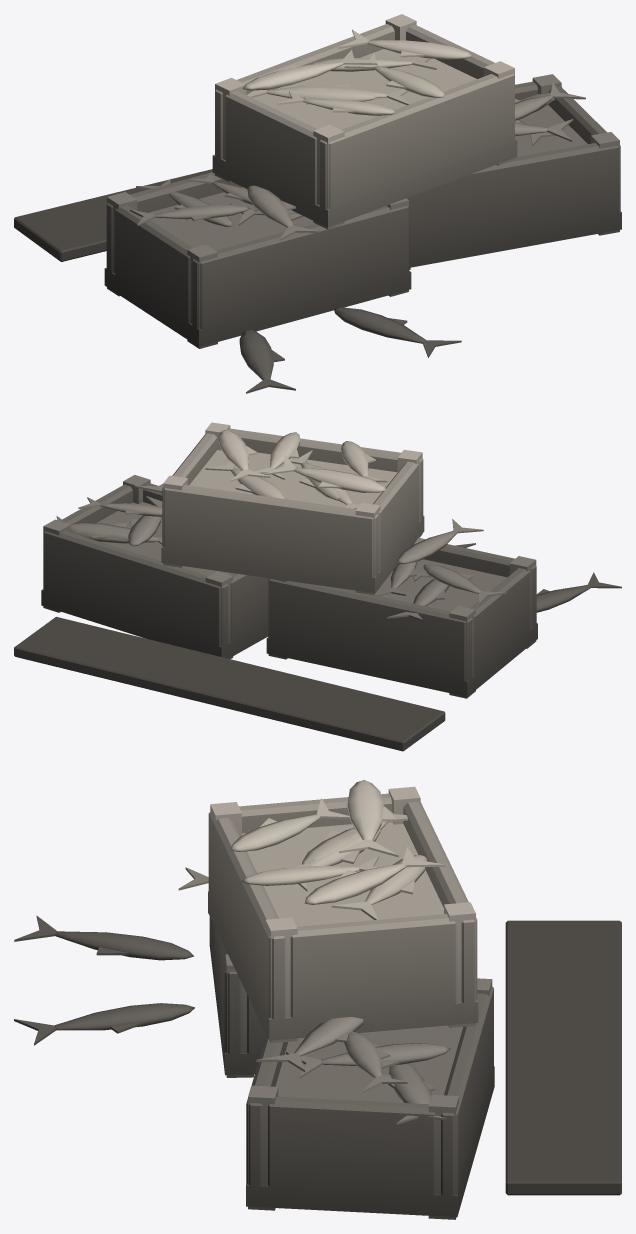
The model's file is SM_VK_Pile_Fish_3.fbx.
3 views of the same model, one above another, from view 1: azimuth 30°, elevation 25°; view 2: azimuth 150°, elevation 25°; view 3: azimuth 270°, elevation 25° (orthographic). The views are drawn at different scales.
Parts seen in each view (by area): view 1: SM_VK_Pile_Fish_3.001; view 2: SM_VK_Pile_Fish_3.001; view 3: SM_VK_Pile_Fish_3.001.
Part boxes in pixels (box(x1,y1,x2,y2)): SM_VK_Pile_Fish_3.001: box(14, 14, 621, 393); SM_VK_Pile_Fish_3.001: box(14, 422, 621, 751); SM_VK_Pile_Fish_3.001: box(14, 780, 621, 1219).
Size of the model in its own units: 1.78 by 0.6812 by 1.57.
